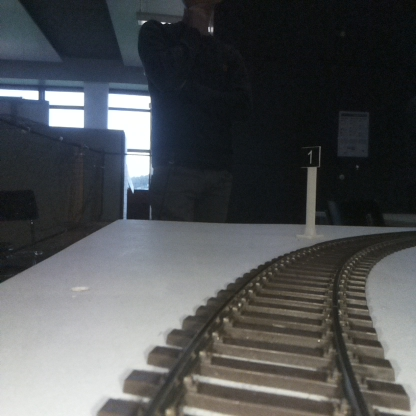black-info-1: (301, 146, 319, 237)
